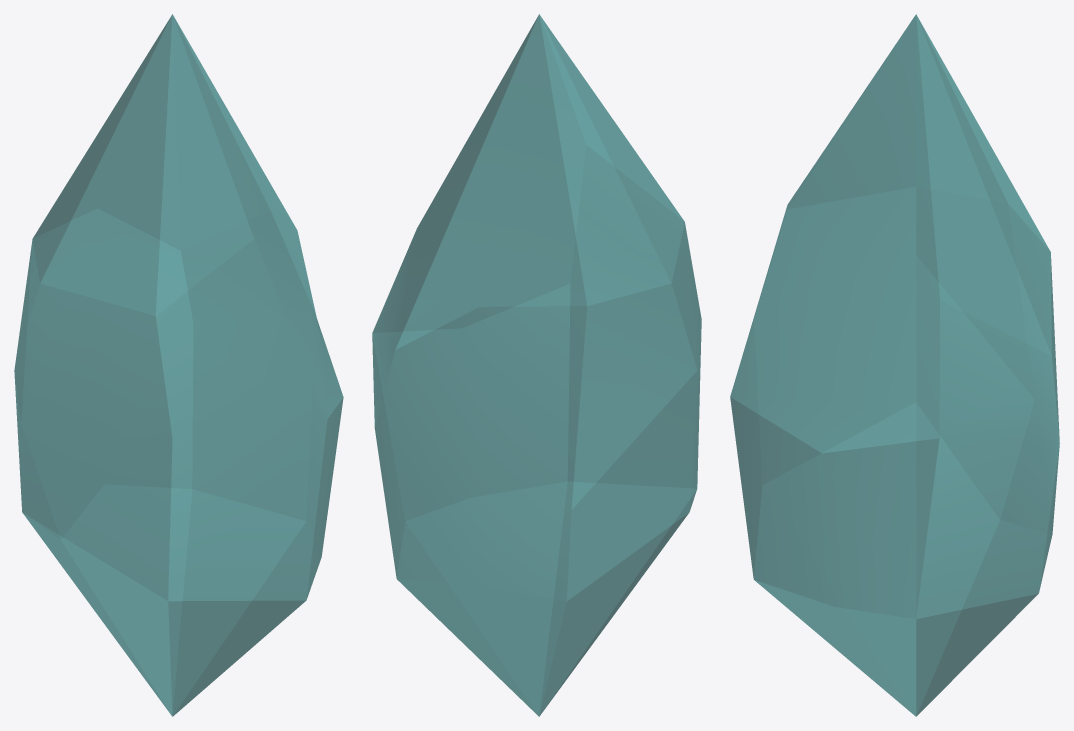
File: obj_crystal.FBX
The picture shows the model from 3 angles, left to right: view 1: azimuth 30°, elevation 25°; view 2: azimuth 150°, elevation 25°; view 3: azimuth 270°, elevation 25°; orthographic projection.
Parts seen in each view (by area): view 1: obj_crystal; view 2: obj_crystal; view 3: obj_crystal.
Boxes of the visible parts, x1,y1,x2,y2 form: obj_crystal: (14, 14, 343, 716); obj_crystal: (372, 14, 701, 716); obj_crystal: (730, 14, 1059, 716).
Size of the model in its own units: 1.4 by 3.01 by 1.28.
